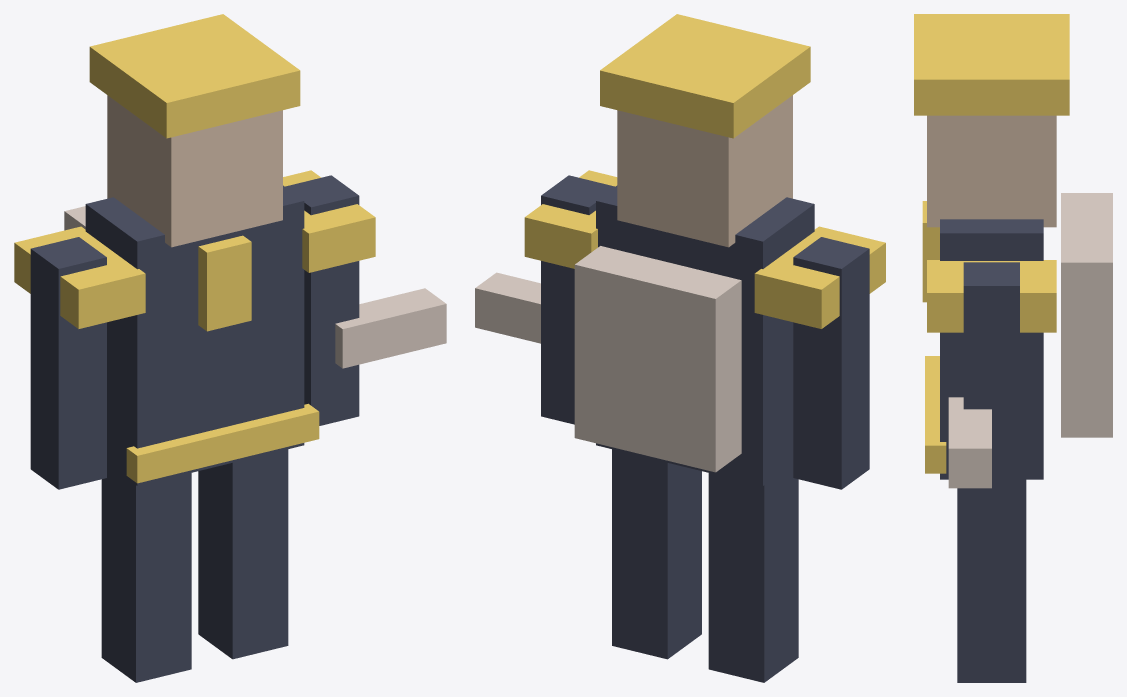
File: 01_bryn_gearmantle_tactician_near_transit.glb
3 views of the same model, side by side, from view 1: azimuth 30°, elevation 25°; view 2: azimuth 150°, elevation 25°; view 3: azimuth 270°, elevation 25° (orthographic).
Visible parts, largest first — view 1: Bryn Gearmantle, Tactician near Transit; view 2: Bryn Gearmantle, Tactician near Transit; view 3: Bryn Gearmantle, Tactician near Transit.
Boxes of the visible parts, x1,y1,x2,y2 form: Bryn Gearmantle, Tactician near Transit: (14,14,446,682); Bryn Gearmantle, Tactician near Transit: (475,14,885,682); Bryn Gearmantle, Tactician near Transit: (914,14,1112,682).
Size of the model in its own units: 0.9573 by 1.43 by 0.4296.
